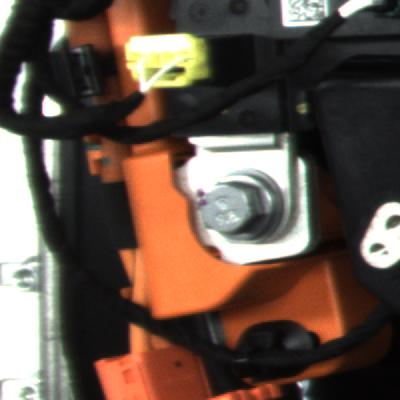nut_b: (188, 161, 293, 251)
